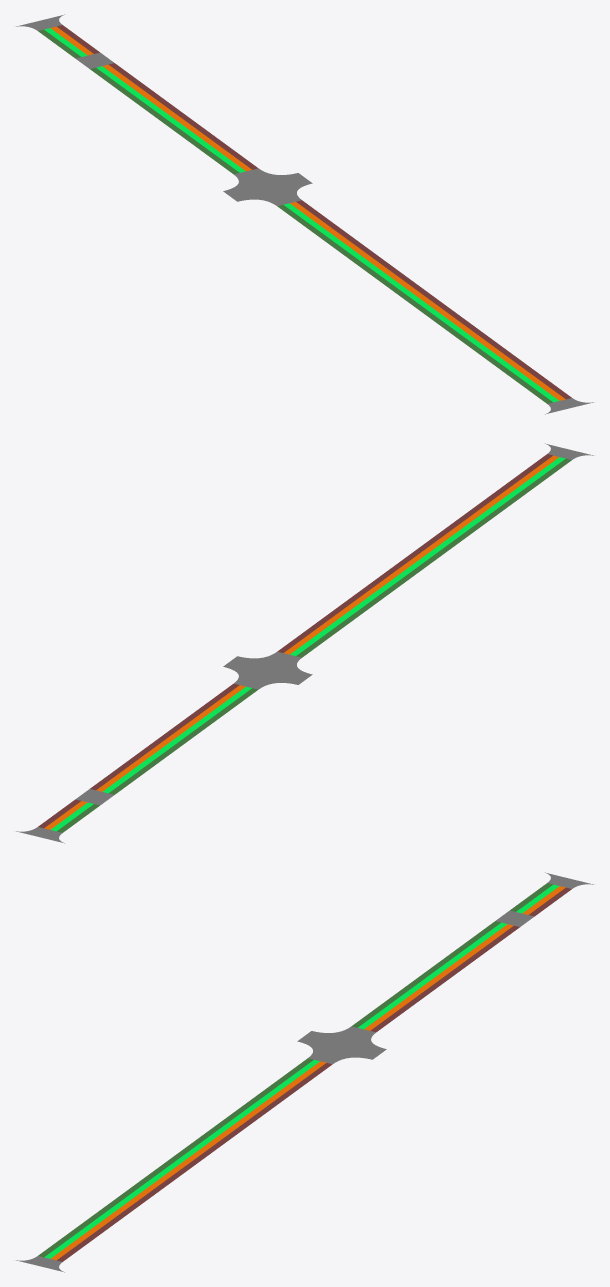
The model's file is Autodrom Road Helper.fbx.
3 renders of one model, top to bottom at view 1: azimuth 30°, elevation 25°; view 2: azimuth 150°, elevation 25°; view 3: azimuth 330°, elevation 25°, orthographic.
Parts seen in each view (by area): view 1: Autodrom Road Helper; view 2: Autodrom Road Helper; view 3: Autodrom Road Helper.
Boxes of the visible parts, left/top/right/bottom form: Autodrom Road Helper: left=16, top=14, right=593, bottom=414; Autodrom Road Helper: left=16, top=443, right=593, bottom=843; Autodrom Road Helper: left=16, top=872, right=593, bottom=1272.
Size of the model in its own units: 18.52 by 5.99e-05 by 225.
